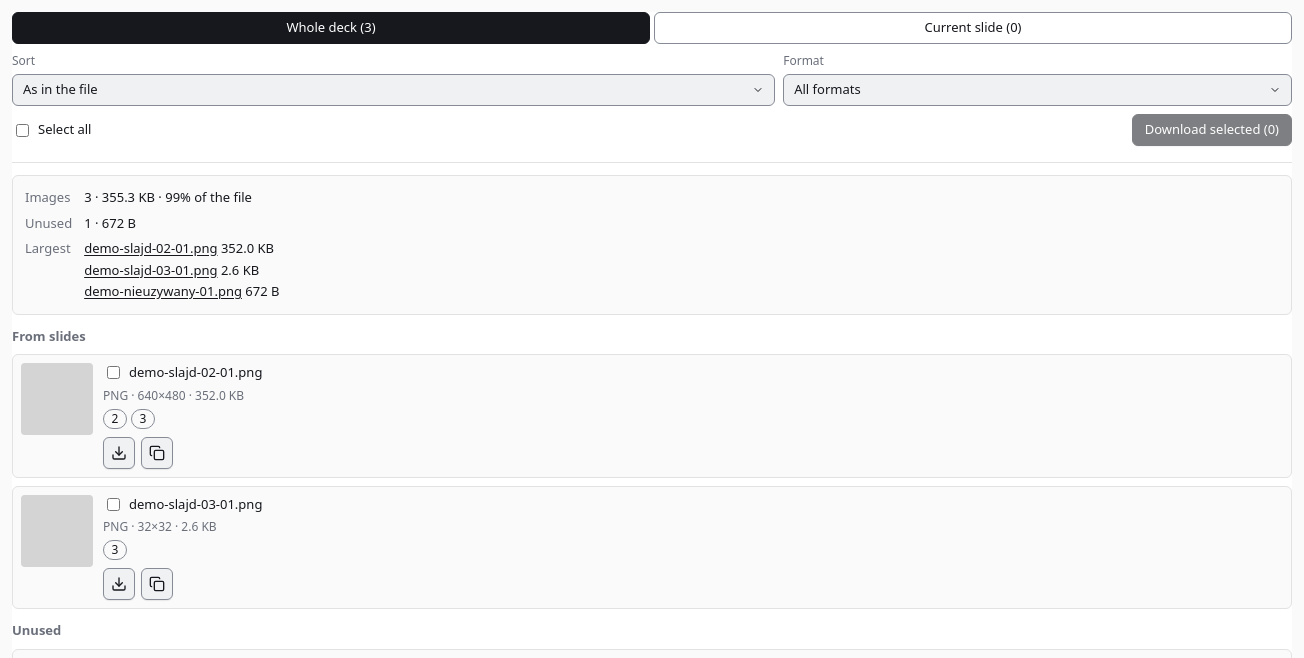
Scenario: ImagePanel selection › toggles only one tile on a plain click
Click the checkbox labelled "demo-slajd-02-01.png": click(114, 373) [107, 366, 120, 379]
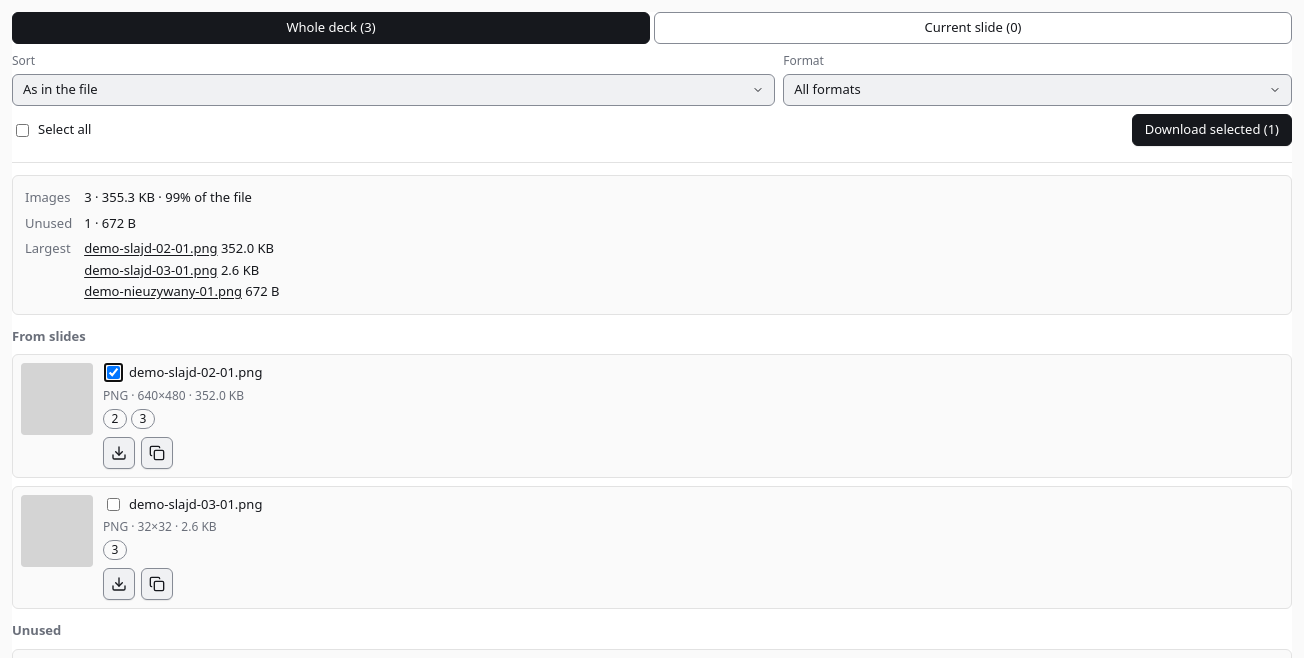
Click the checkbox labelled "demo-slajd-03-01.png": click(114, 504) [107, 498, 120, 511]
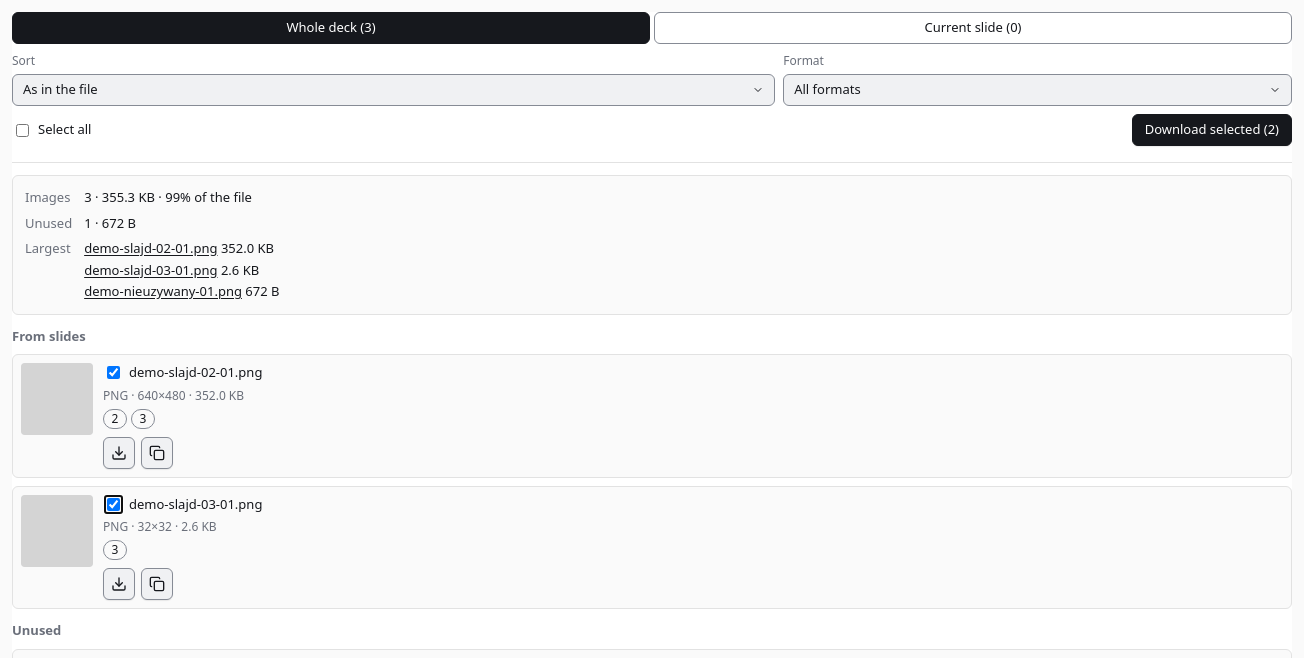
Result: the button "Download selected (2)" is shown at [1132, 114, 1292, 146]
